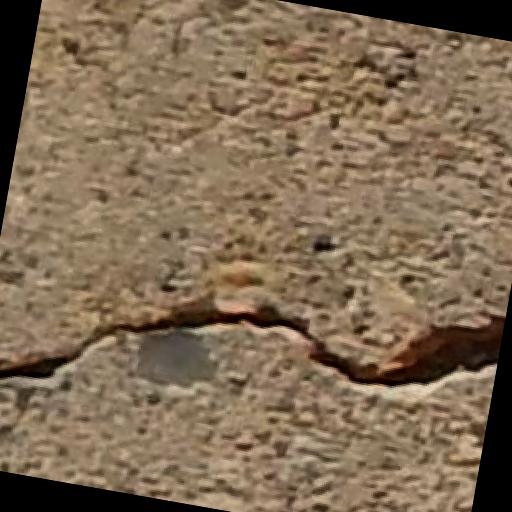spalling: (0, 289, 507, 414)
